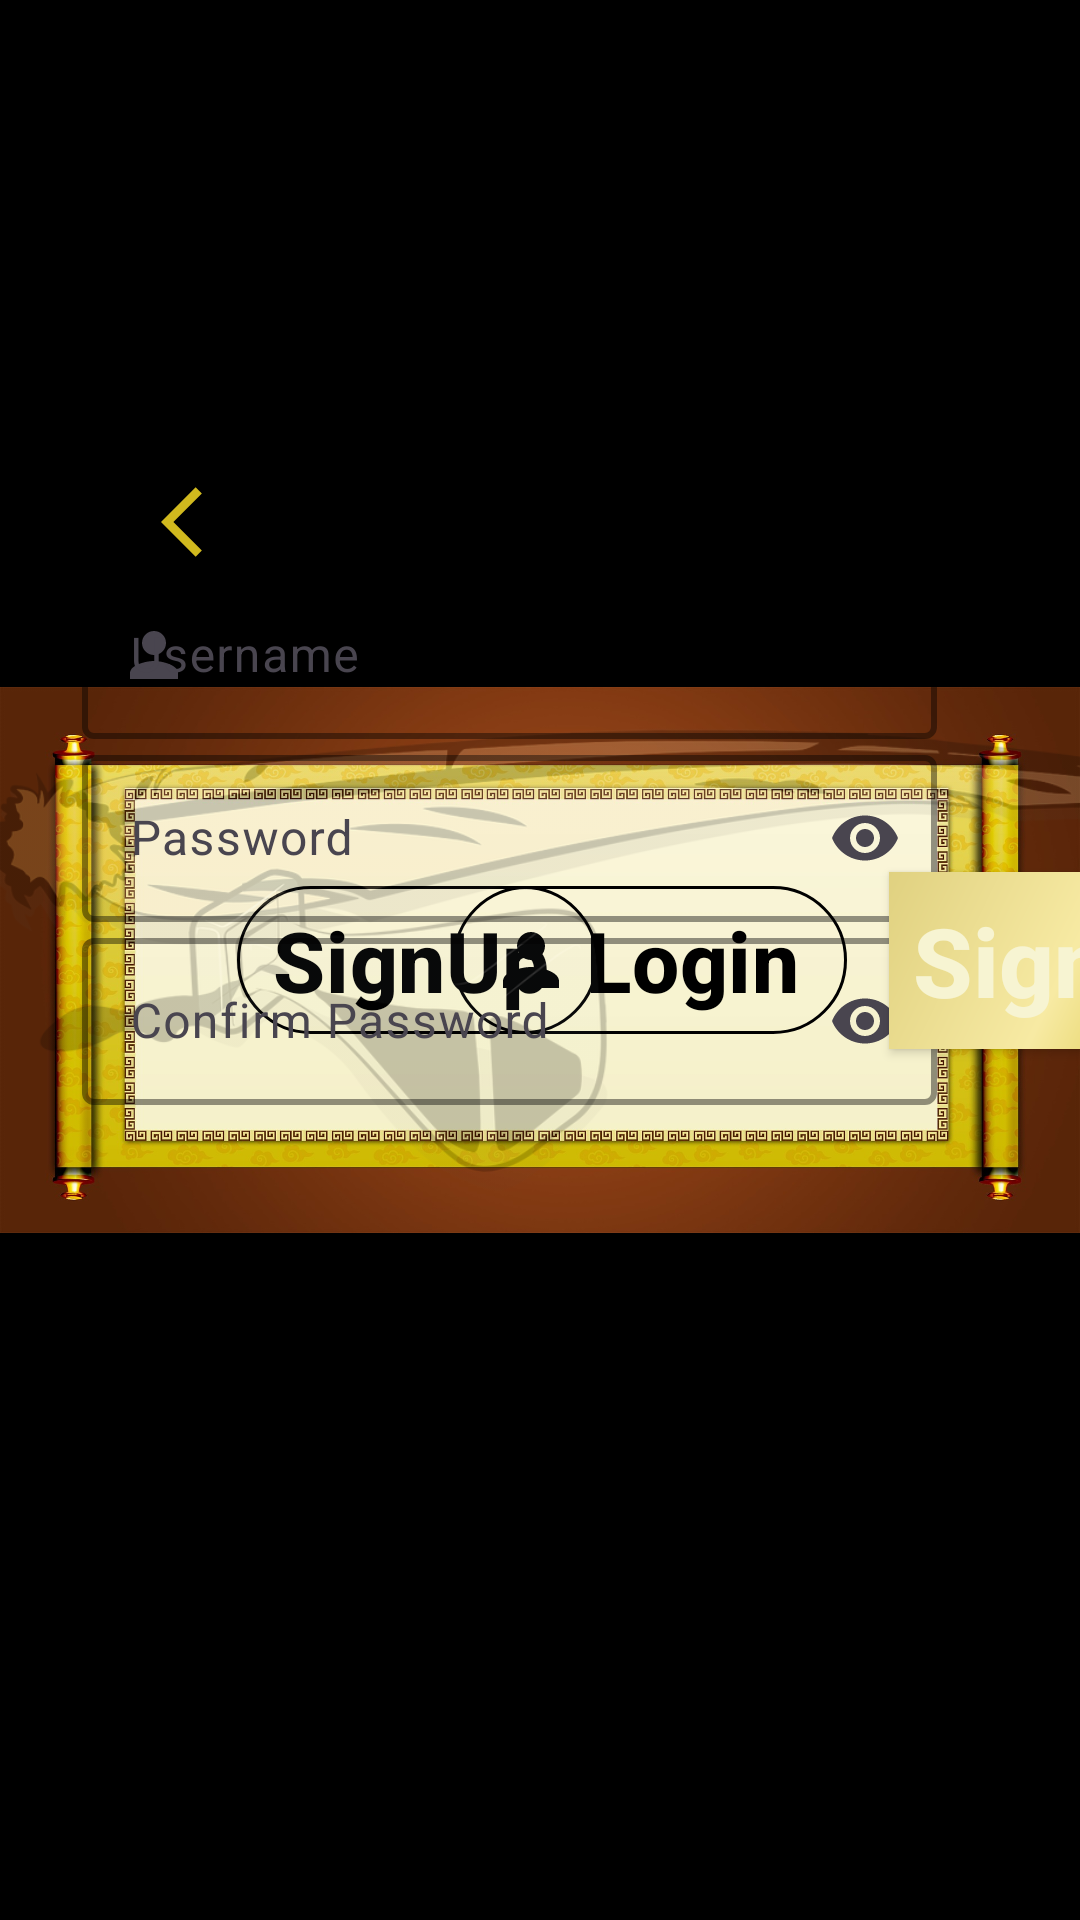

Locate icon controls on the screen. Image size 1080w x 1920h, boxes as {"left": x1, "top": y1, "right": x2, "bottom": y2}.
arrow back: {"left": 161, "top": 487, "right": 202, "bottom": 557}
